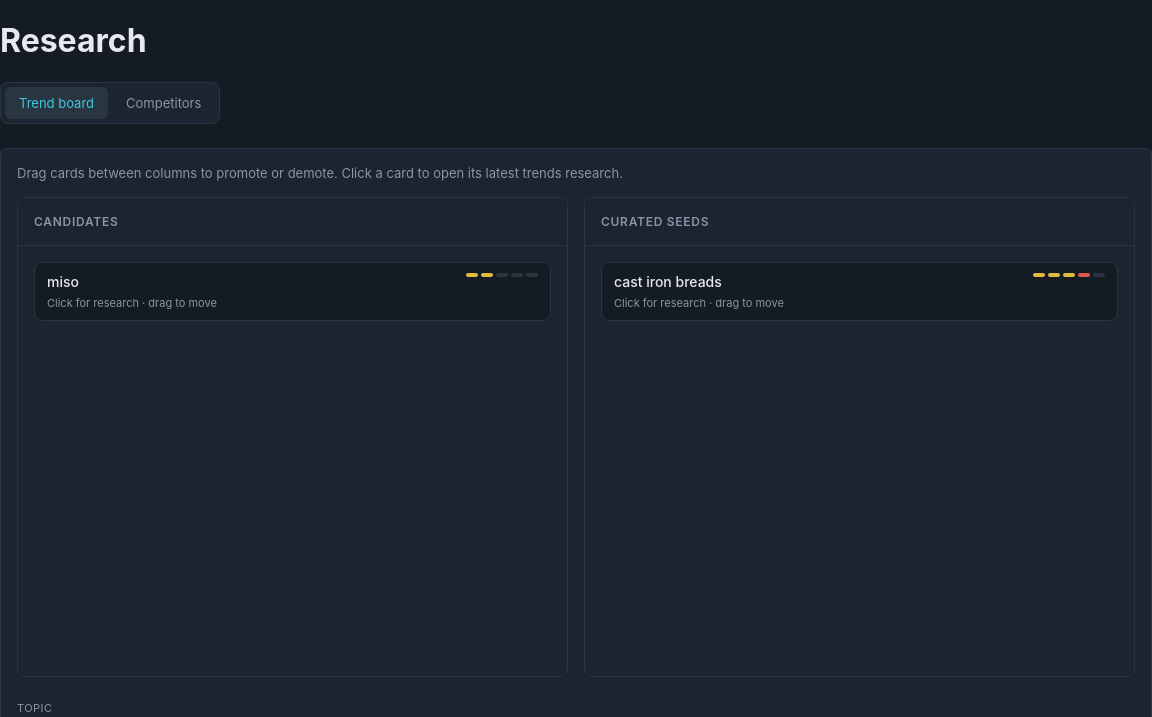
Test: Research › opens a research modal with deep research reports when a topic card is clicked
Click the button "cast iron breads Click for research · drag to move" at [668, 281], box [601,262,1118,321]
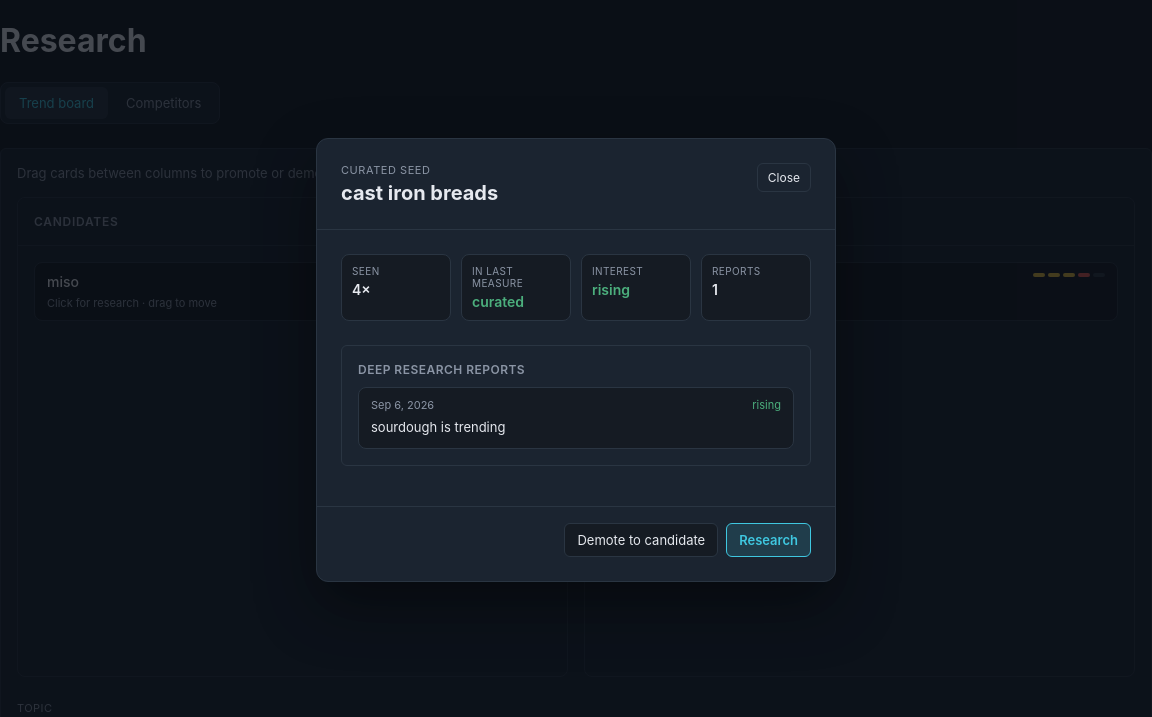
Now the element "Deep research reports" is shown, box [341,345,811,466]
Now the text "sourdough is trending" is shown, box [371,419,505,435]
Now the button "Research" is shown, box [726,523,811,557]
